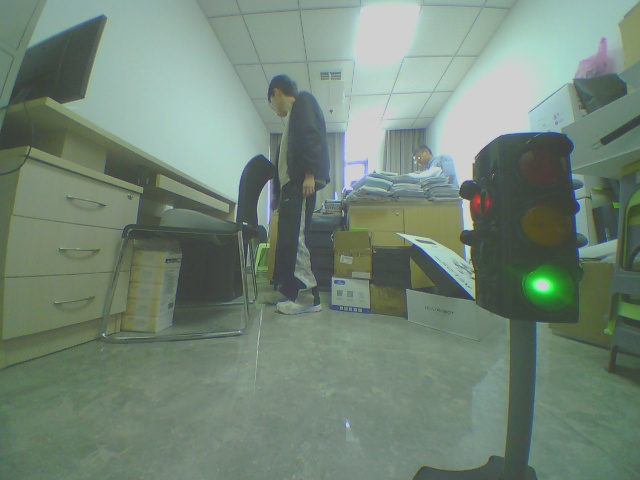Green: (468, 125, 580, 345)
